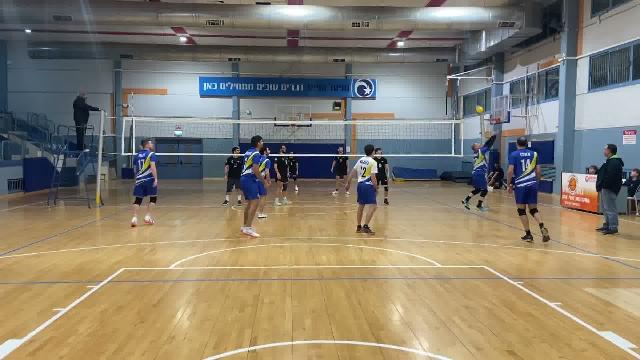ball: (474, 101, 486, 118)
